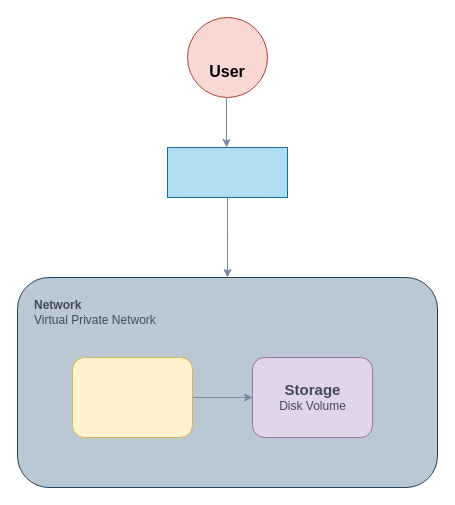
The diagram is 455 pixels wide and 505 high, and some of its shapes have lost their labels. The centre of each missing label's shape, as x and y in pixels:
"Compute Virtual Machine" belongs at (132,397).
"Internet" belongs at (227,172).
